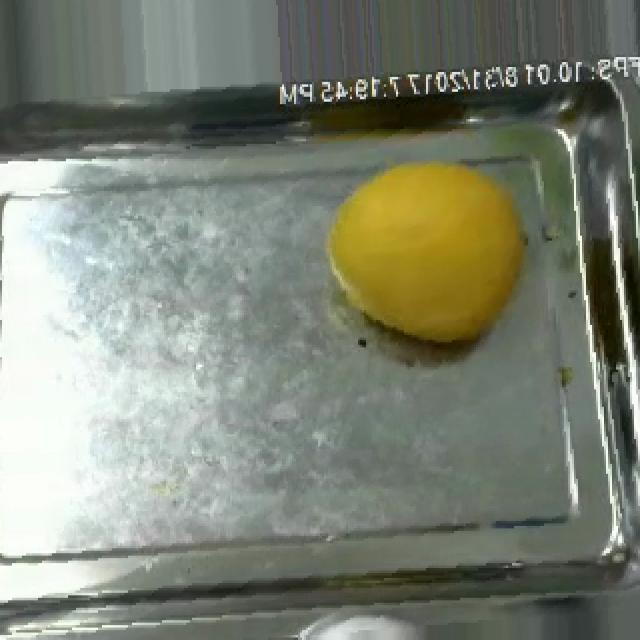fruit: (310, 144, 552, 365)
